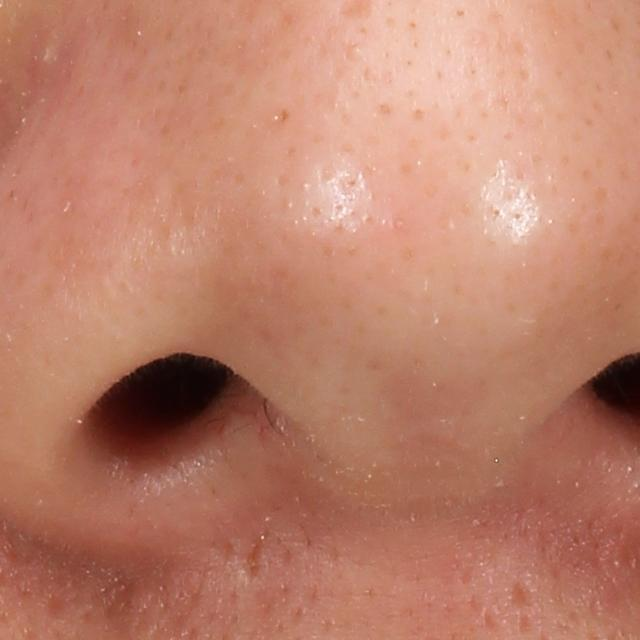atrophic_scar: (244, 530, 261, 585), (509, 577, 534, 611)
